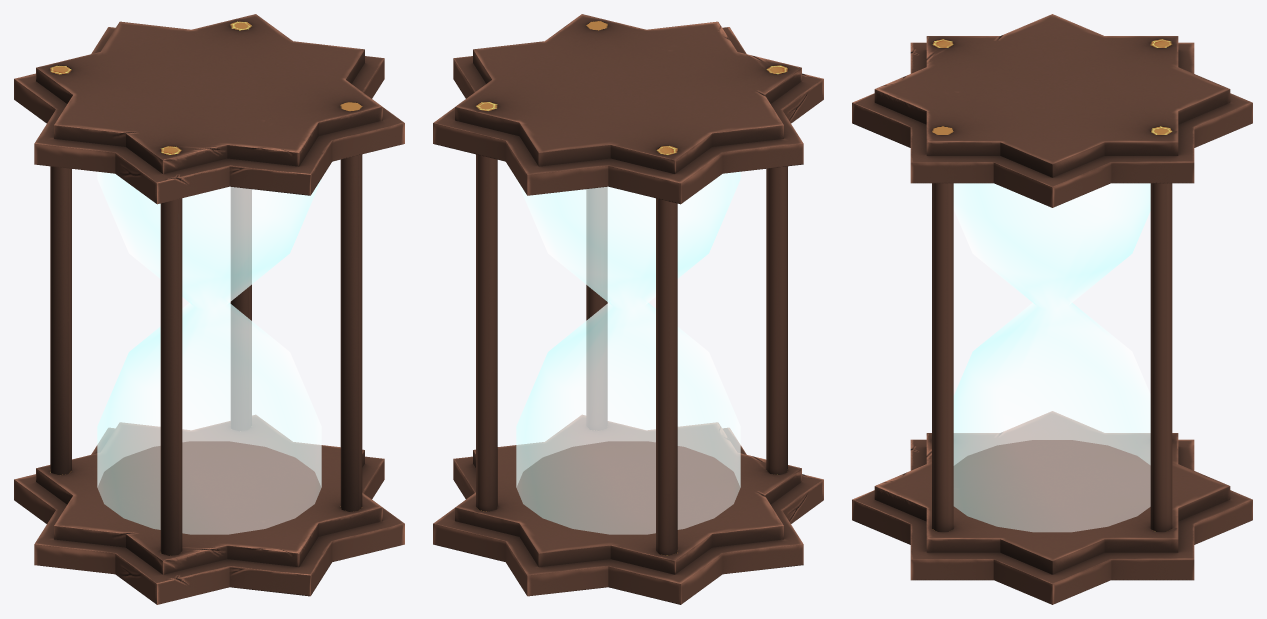
Rendered from SandTimer.FBX.
3 renders of one model, left to right at view 1: azimuth 30°, elevation 25°; view 2: azimuth 150°, elevation 25°; view 3: azimuth 270°, elevation 25°, orthographic.
Visible parts, largest first — view 1: Object001, Object002; view 2: Object001, Object002; view 3: Object001, Object002.
Boxes of the visible parts, box(x1,y1,x2,y2) form: Object001: box(14, 14, 404, 604); Object002: box(97, 171, 321, 534); Object001: box(433, 14, 823, 604); Object002: box(516, 171, 740, 534); Object001: box(852, 14, 1252, 604); Object002: box(953, 183, 1150, 531).
Bounding box in the file's own units: 21.76 × 25.82 × 21.76.
